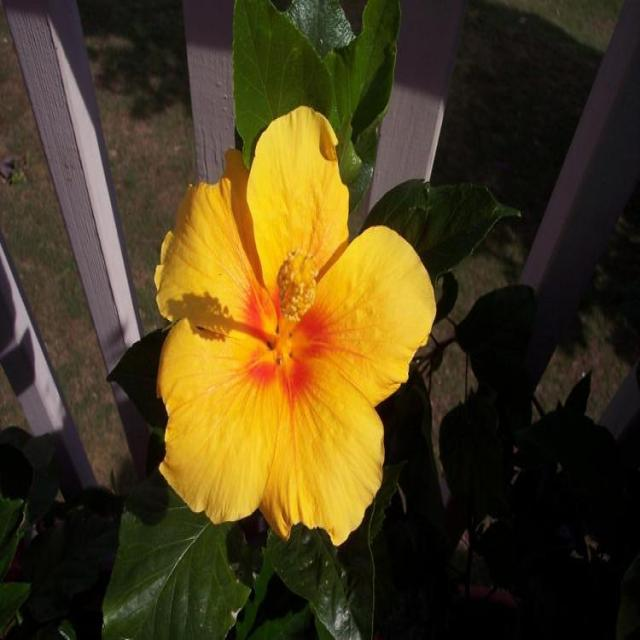hibiscus: (127, 93, 439, 595)
